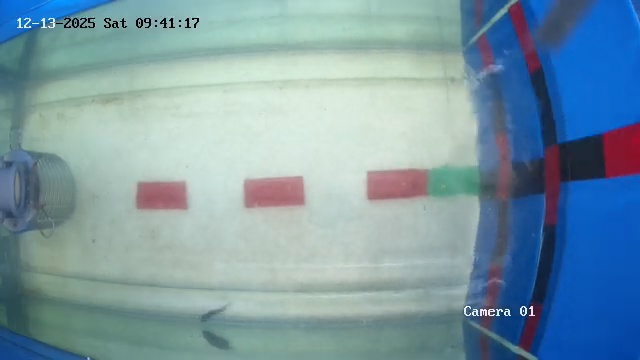fish: (191, 307, 235, 326)
